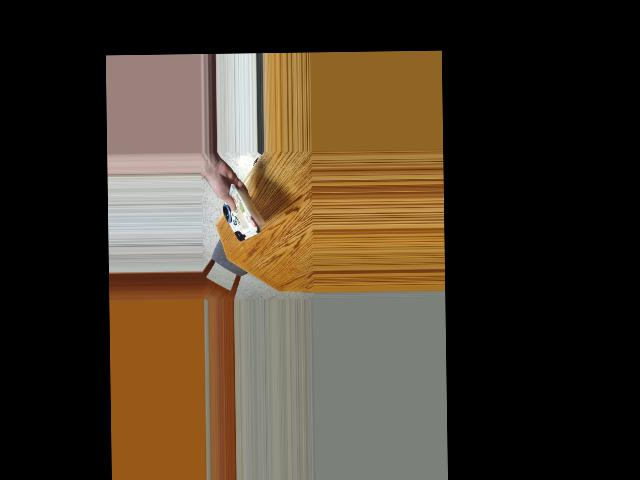cheese: (215, 192, 269, 239)
